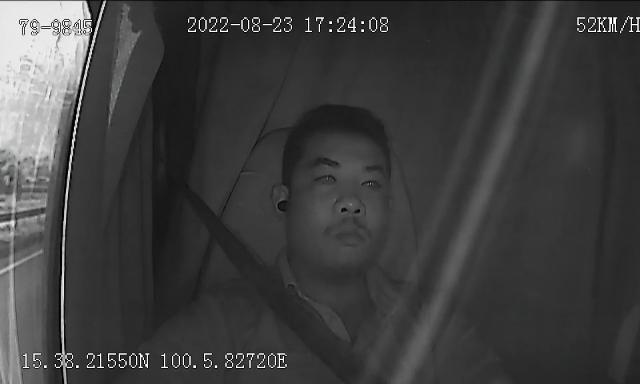SafeDriving: (309, 160, 342, 193), (355, 166, 389, 196)
Seatbelt: (187, 190, 359, 370)
